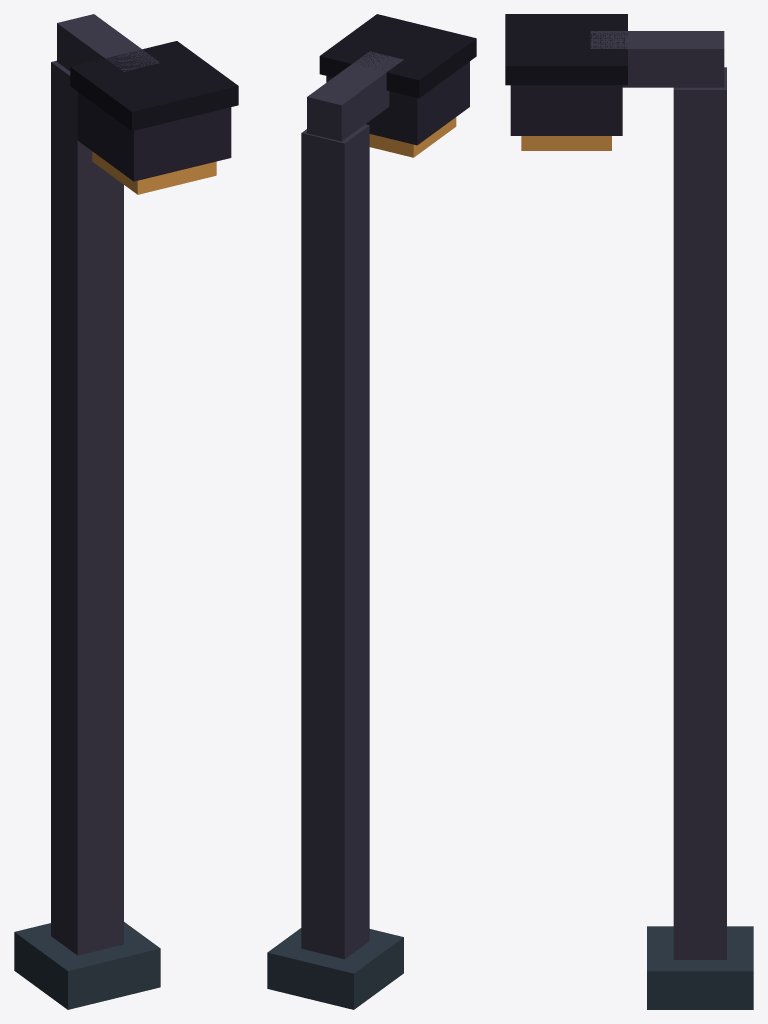
The model's file is street_lamp.obj.
The picture shows the model from 3 angles, left to right: view 1: azimuth 30°, elevation 25°; view 2: azimuth 150°, elevation 25°; view 3: azimuth 270°, elevation 25°; orthographic projection. The views are drawn at different scales.
Parts seen in each view (by area): view 1: street_lamp; view 2: street_lamp; view 3: street_lamp.
Part boxes in pixels (bbox=[...]): street_lamp: bbox=[14, 14, 238, 1009]; street_lamp: bbox=[267, 14, 476, 1009]; street_lamp: bbox=[505, 14, 753, 1009].
Bounding box in the file's own units: 0.46 × 3.92 × 0.93.
